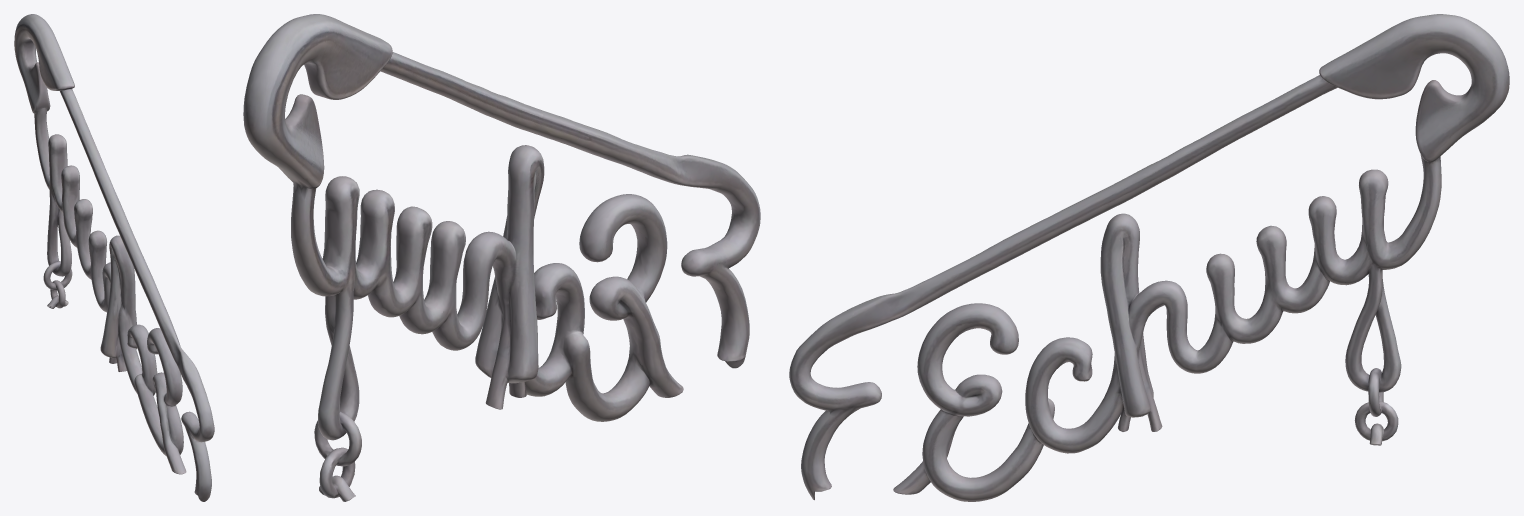
The model's file is pin.glb.
The picture shows the model from 3 angles, left to right: view 1: azimuth 30°, elevation 25°; view 2: azimuth 150°, elevation 25°; view 3: azimuth 270°, elevation 25°; orthographic projection. The views are drawn at different scales.
Parts seen in each view (by area): view 1: tripo_node_9e385b8b-1f7c-4bc4-9b96-98ff111ce453; view 2: tripo_node_9e385b8b-1f7c-4bc4-9b96-98ff111ce453; view 3: tripo_node_9e385b8b-1f7c-4bc4-9b96-98ff111ce453.
Boxes of the visible parts, x1,y1,x2,y2 form: tripo_node_9e385b8b-1f7c-4bc4-9b96-98ff111ce453: [14, 14, 214, 501]; tripo_node_9e385b8b-1f7c-4bc4-9b96-98ff111ce453: [243, 14, 760, 501]; tripo_node_9e385b8b-1f7c-4bc4-9b96-98ff111ce453: [789, 14, 1509, 501].
Bounding box in the file's own units: 0.1395 × 0.7776 × 0.9947.
Materials: 1 (1 with a texture image).
